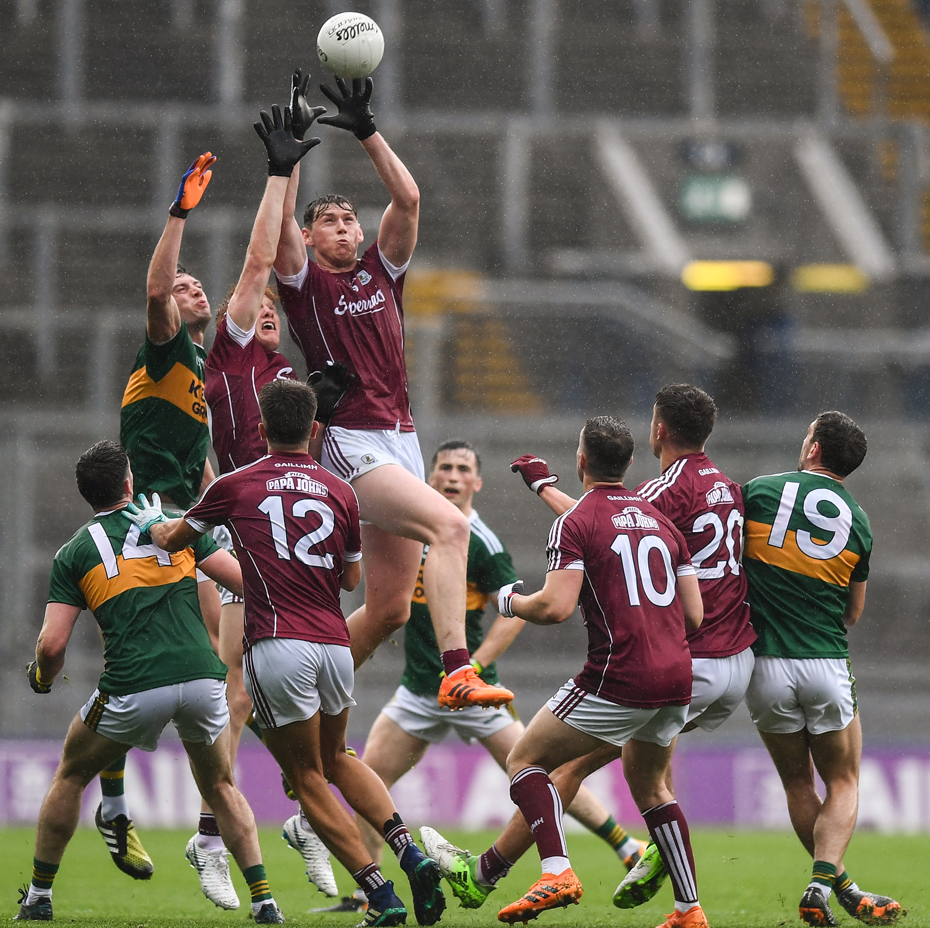ball: (315, 3, 390, 81)
player: (196, 374, 444, 899), (273, 173, 489, 673), (43, 451, 266, 889), (528, 389, 696, 910), (760, 408, 873, 876), (637, 370, 742, 765), (102, 228, 247, 440)
